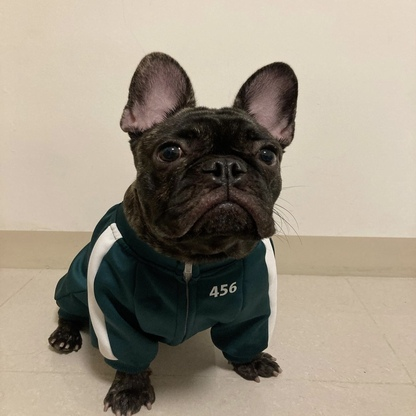bulldog: (46, 50, 302, 416)
